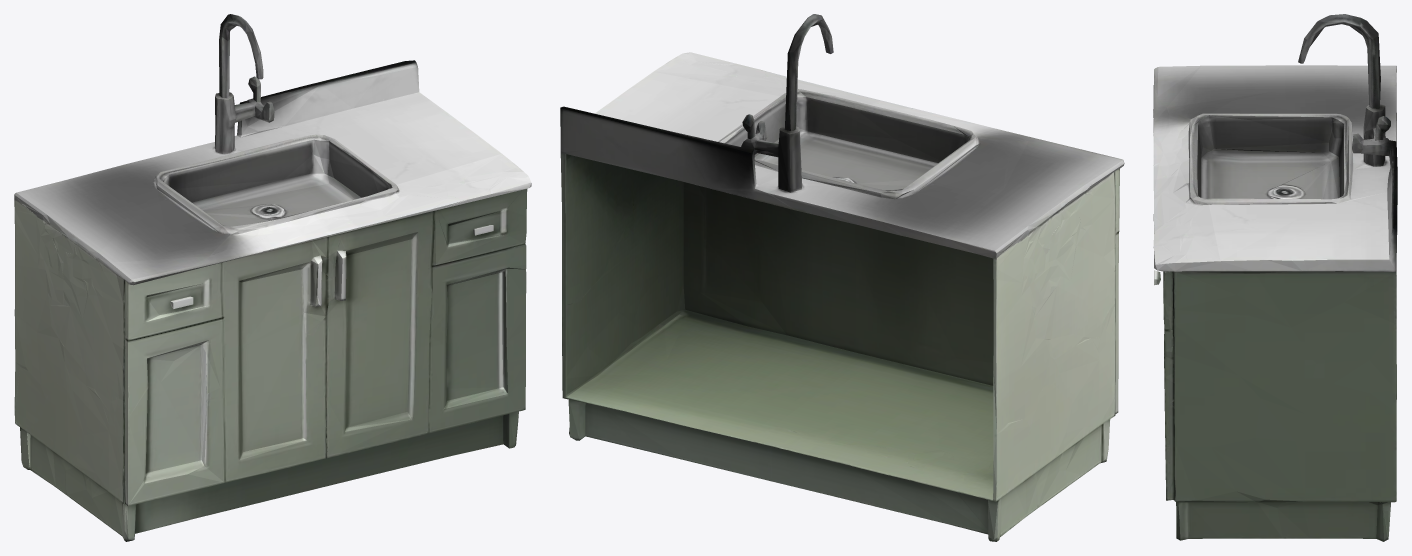
The model's file is kitchenCounter.glb.
3 views of the same model, side by side, from view 1: azimuth 30°, elevation 25°; view 2: azimuth 150°, elevation 25°; view 3: azimuth 270°, elevation 25° (orthographic). The views are drawn at different scales.
Parts seen in each view (by area): view 1: world; view 2: world; view 3: world.
Boxes of the visible parts, x1,y1,x2,y2 form: world: [14, 14, 531, 541]; world: [560, 14, 1124, 541]; world: [1153, 14, 1397, 541].
Size of the model in its own units: 0.9993 by 0.9977 by 0.5125.
Materials: 1 (1 with a texture image).
